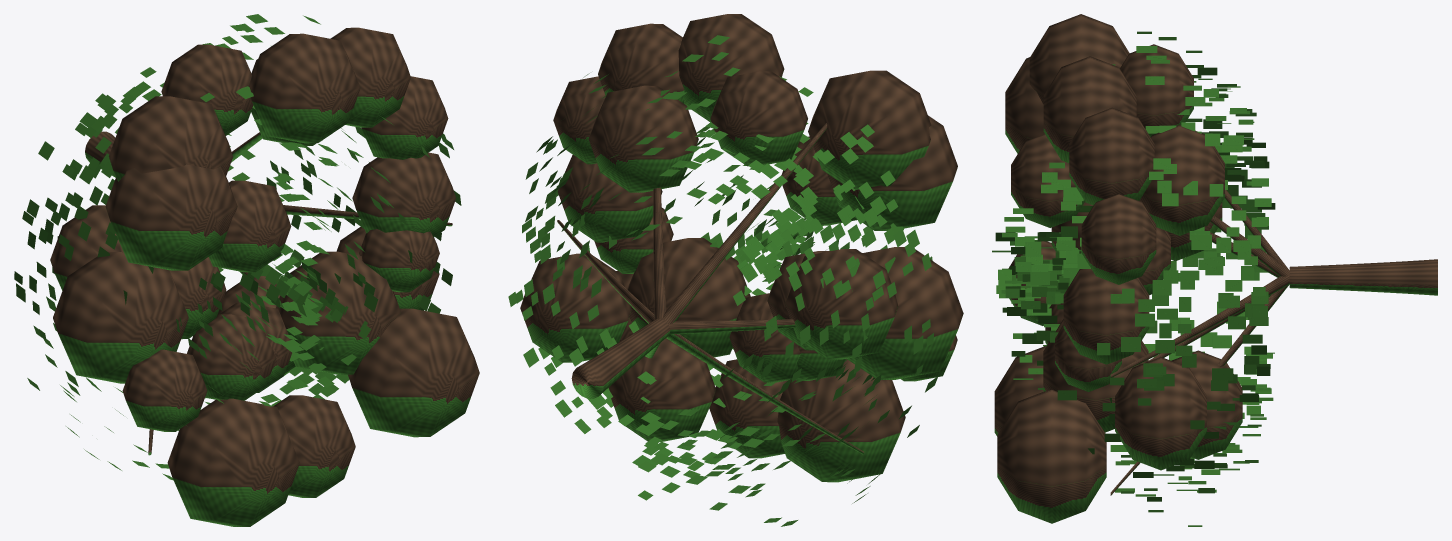
The model's file is veg_tree_oak_01.obj.
3 views of the same model, side by side, from view 1: azimuth 30°, elevation 25°; view 2: azimuth 150°, elevation 25°; view 3: azimuth 270°, elevation 25° (orthographic).
Parts seen in each view (by area): view 1: veg_tree_oak_01; view 2: veg_tree_oak_01; view 3: veg_tree_oak_01.
Part boxes in pixels (box(x1,y1,x2,y2)): veg_tree_oak_01: box(14, 14, 479, 526); veg_tree_oak_01: box(508, 14, 963, 526); veg_tree_oak_01: box(992, 14, 1437, 526).
Bounding box in the file's own units: 12.93 × 13.77 × 12.
1 material, 1 textured.
